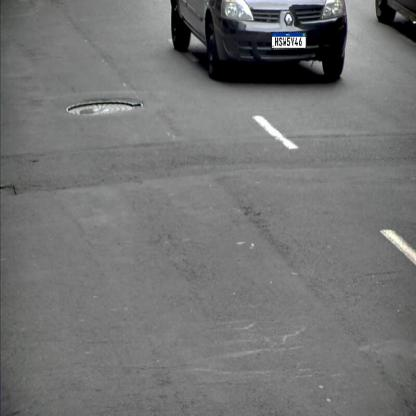PlacaM: (272, 32, 306, 48)
